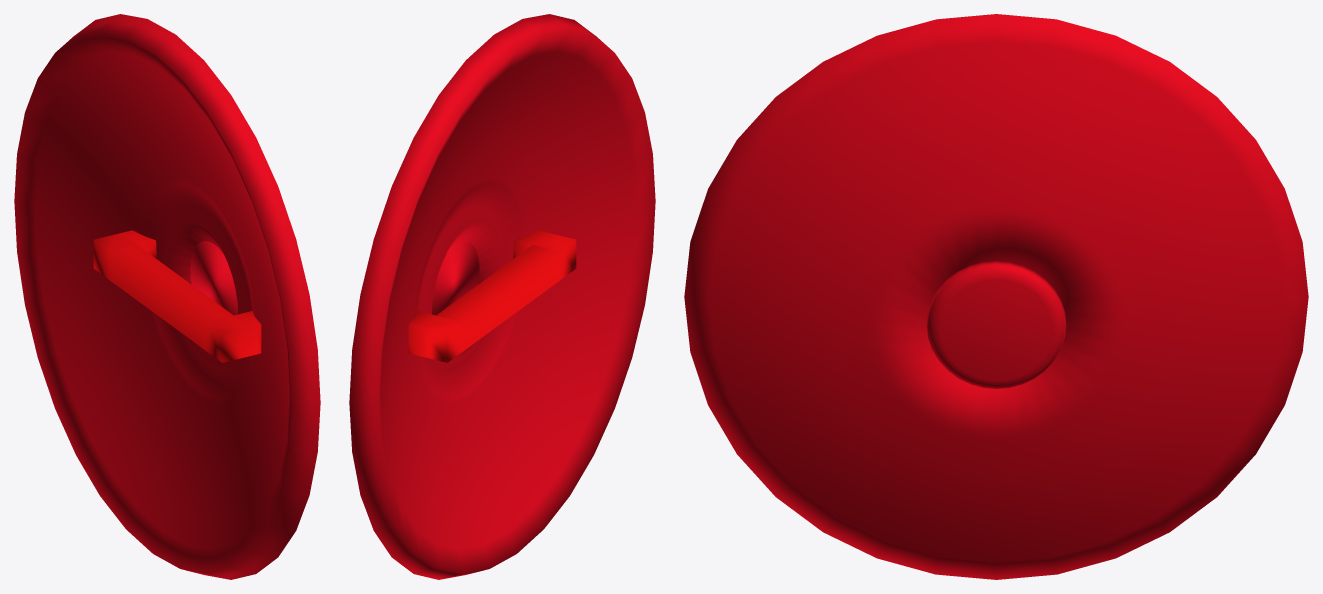
The model's file is Shield.fbx.
3 views of the same model, side by side, from view 1: azimuth 30°, elevation 25°; view 2: azimuth 150°, elevation 25°; view 3: azimuth 270°, elevation 25° (orthographic). The views are drawn at different scales.
Visible parts, largest first — view 1: Circle, Cube; view 2: Circle, Cube; view 3: Circle.
Part boxes in pixels (x1=…): Circle: x1=14, y1=14, x2=320, y2=579; Cube: x1=93, y1=230, x2=261, y2=362; Circle: x1=349, y1=14, x2=655, y2=579; Cube: x1=408, y1=230, x2=576, y2=362; Circle: x1=684, y1=14, x2=1308, y2=579.
Size of the model in its own units: 102 by 593 by 593.
